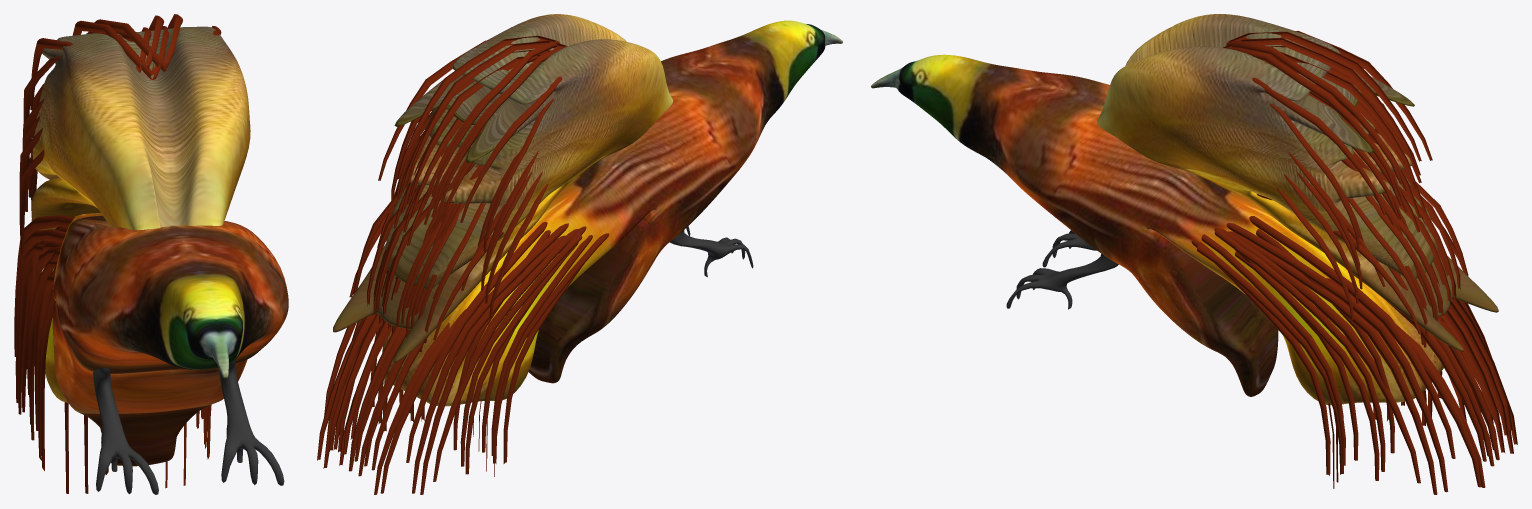
Rendered from cendranwerah.fbx.
The picture shows the model from 3 angles, left to right: view 1: azimuth 30°, elevation 25°; view 2: azimuth 150°, elevation 25°; view 3: azimuth 270°, elevation 25°; orthographic projection. The views are drawn at different scales.
Parts seen in each view (by area): view 1: badan, bulu atas, BezierCurve.013, Cube.003, kaki kanan; view 2: BezierCurve.013, badan, bulu atas, Cube.003; view 3: BezierCurve.013, badan, bulu atas, kaki kanan.
Part boxes in pixels (x1,y1,x2,y2): badan: (43,213,288,466); bulu atas: (31,26,250,230); BezierCurve.013: (14,14,221,493); Cube.003: (93,367,158,494); kaki kanan: (218,360,284,485); BezierCurve.013: (317,35,609,494); badan: (382,20,842,406); bulu atas: (333,14,672,362); Cube.003: (669,230,753,277); BezierCurve.013: (1191,31,1517,494); badan: (871,54,1443,405); bulu atas: (1097,14,1498,351); kaki kanan: (1006,253,1118,309).
Bounding box in the file's own units: 188 × 282 × 399.
Materials: 3 (1 with a texture image).
